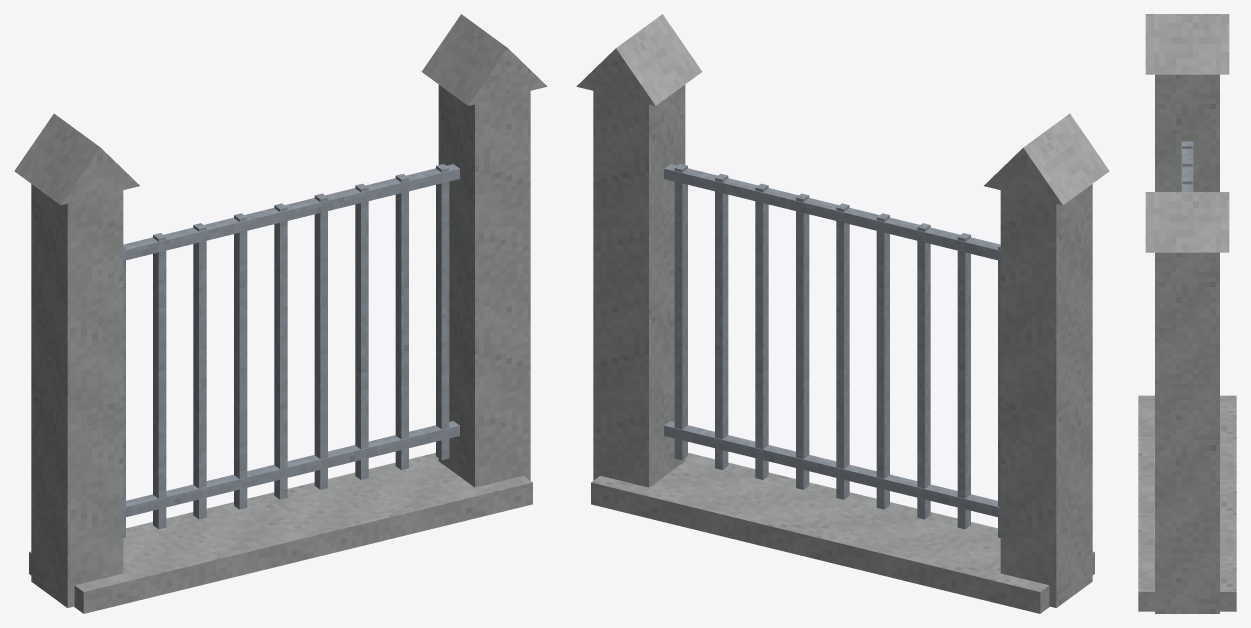
Rendered from level_blockout_cemetery_gate.glb.
3 views of the same model, side by side, from view 1: azimuth 30°, elevation 25°; view 2: azimuth 150°, elevation 25°; view 3: azimuth 270°, elevation 25° (orthographic). The views are drawn at different scales.
Visible parts, largest first — view 1: level_blockout_cemetery_gate; view 2: level_blockout_cemetery_gate; view 3: level_blockout_cemetery_gate.
Boxes of the visible parts, <box> form: level_blockout_cemetery_gate: <box>14,14,547,613</box>; level_blockout_cemetery_gate: <box>576,14,1109,613</box>; level_blockout_cemetery_gate: <box>1138,14,1236,613</box>.
Bounding box in the file's own units: 3.49 × 3.14 × 0.68.
Materials: 2 (2 with a texture image).
